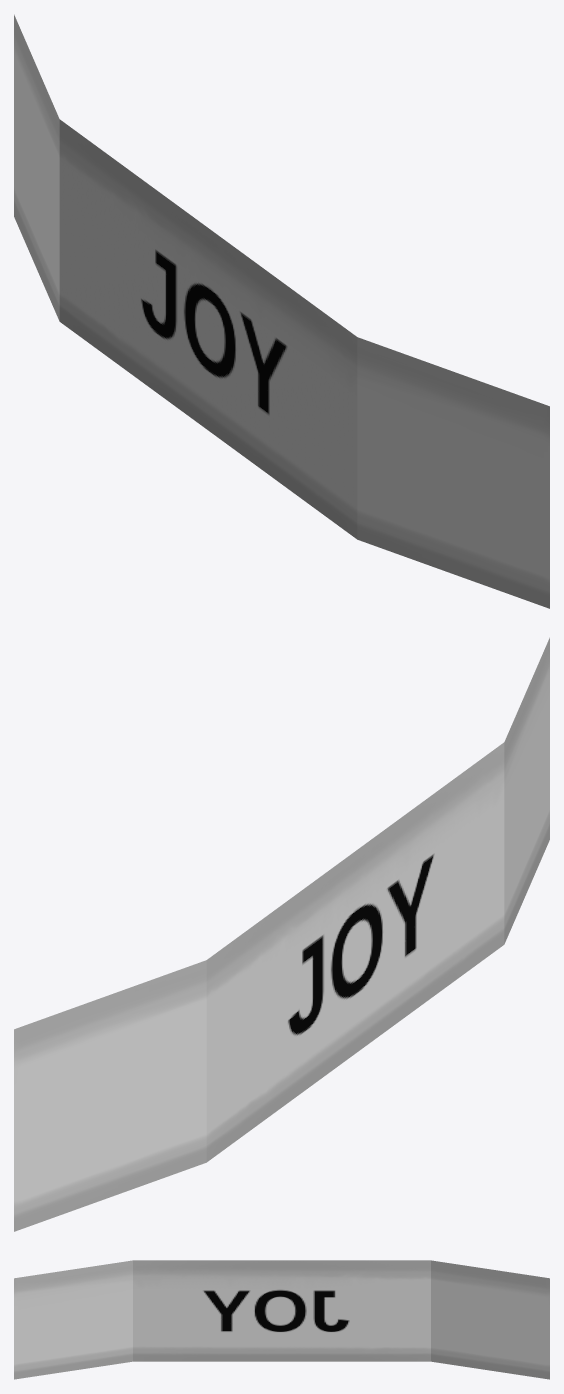
Rendered from billboard.glb.
3 renders of one model, top to bottom at view 1: azimuth 30°, elevation 25°; view 2: azimuth 150°, elevation 25°; view 3: azimuth 270°, elevation 25°, orthographic. The views are drawn at different scales.
Visible parts, largest first — view 1: Circle; view 2: Circle; view 3: Circle.
Boxes of the visible parts, bbox=[...] form: Circle: bbox=[14, 14, 549, 608]; Circle: bbox=[14, 637, 549, 1231]; Circle: bbox=[14, 1260, 549, 1379].
Bounding box in the file's own units: 0.3 × 0.7904 × 3.79.
1 material, 1 textured.
